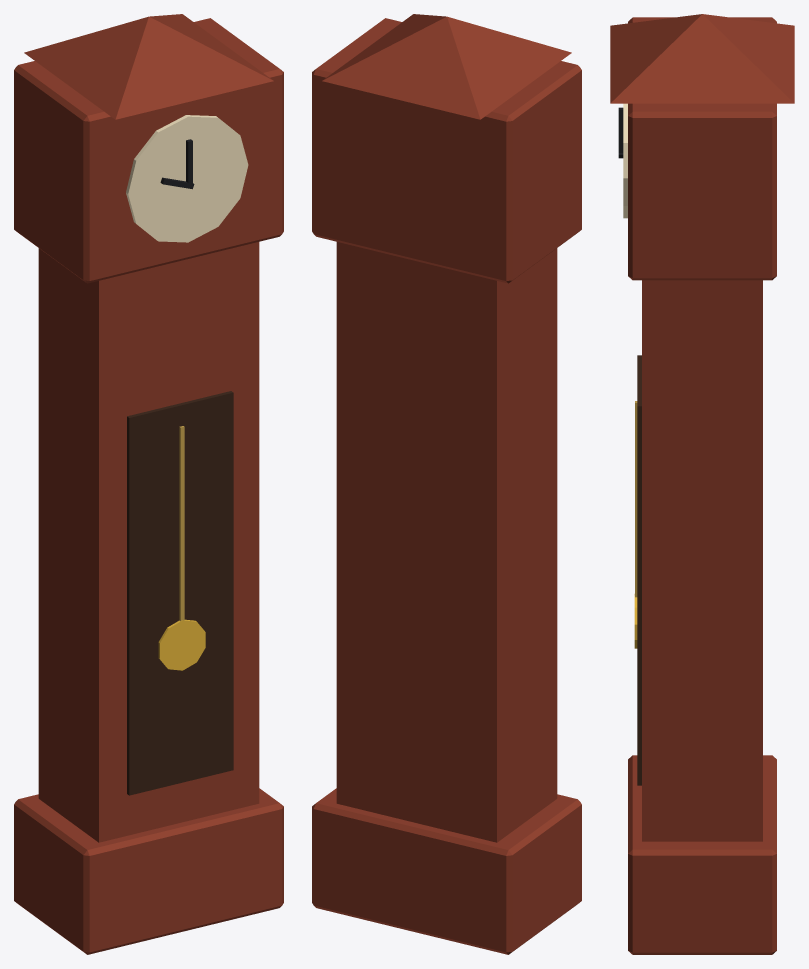
File: grandfatherClock.fbx
3 views of the same model, side by side, from view 1: azimuth 30°, elevation 25°; view 2: azimuth 150°, elevation 25°; view 3: azimuth 270°, elevation 25° (orthographic).
Visible parts, largest first — view 1: grandfatherClock, pendulum; view 2: grandfatherClock; view 3: grandfatherClock, pendulum.
Boxes of the visible parts, left/top/right/bottom form: grandfatherClock: left=14, top=14, right=283, bottom=954; pendulum: left=158, top=426, right=205, bottom=670; grandfatherClock: left=312, top=14, right=581, bottom=954; grandfatherClock: left=610, top=14, right=794, bottom=954; pendulum: left=634, top=401, right=637, bottom=648.
Size of the model in its own units: 2 by 8.48 by 1.58.
